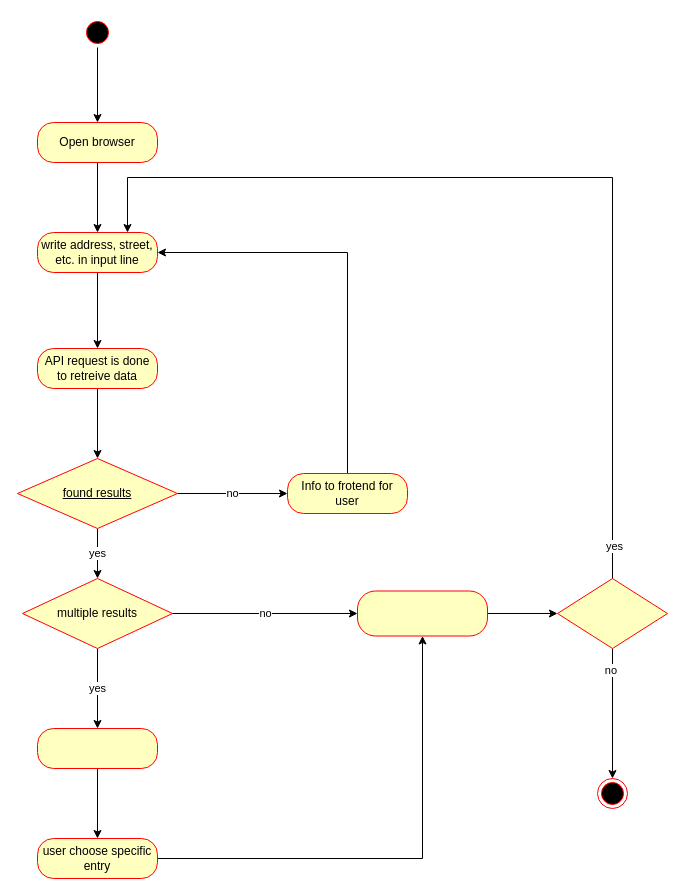
Image size: 685x896. Some labels were removed from this diagram. Each missing label, with the centre of its shape:
"list results for user to frontend" goes at (97,748).
"map is loaded and address is declared on the map" goes at (422,613).
"reset" goes at (612,613).
